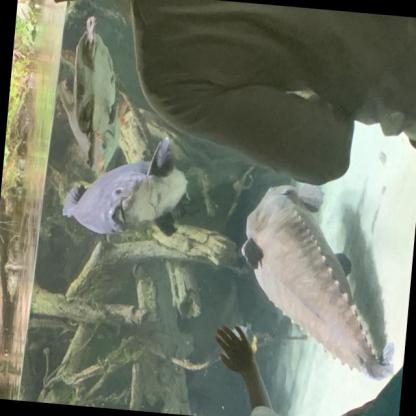fish: (232, 175, 408, 380), (59, 126, 195, 246)
